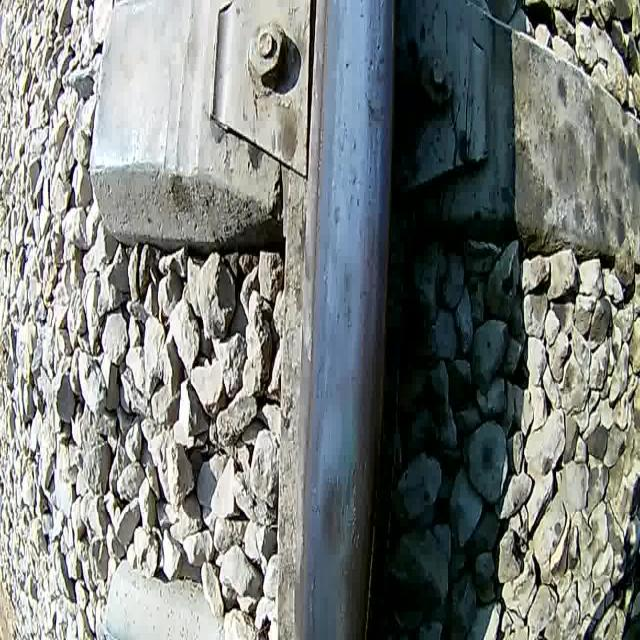Squats: (318, 464, 351, 565), (338, 258, 358, 341)
